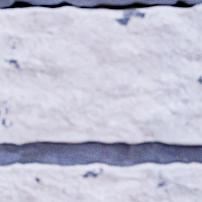brick: (0, 4, 201, 143), (0, 162, 201, 201)
crack: (1, 0, 201, 10)
